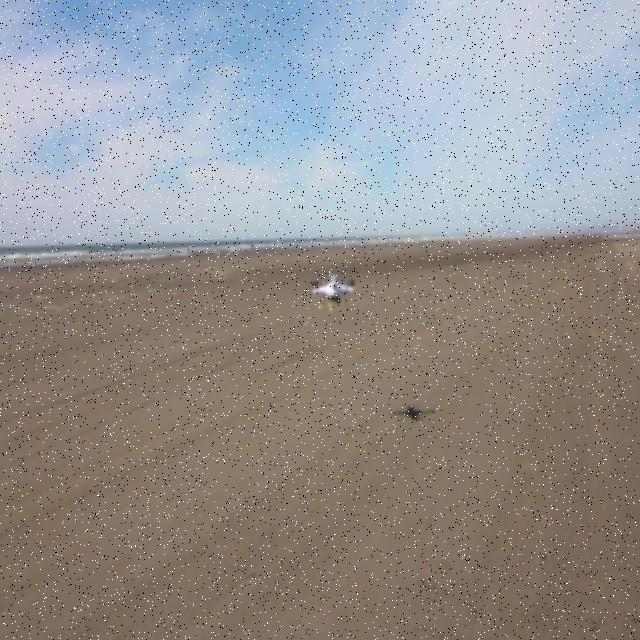UAV: (308, 275, 358, 313)
